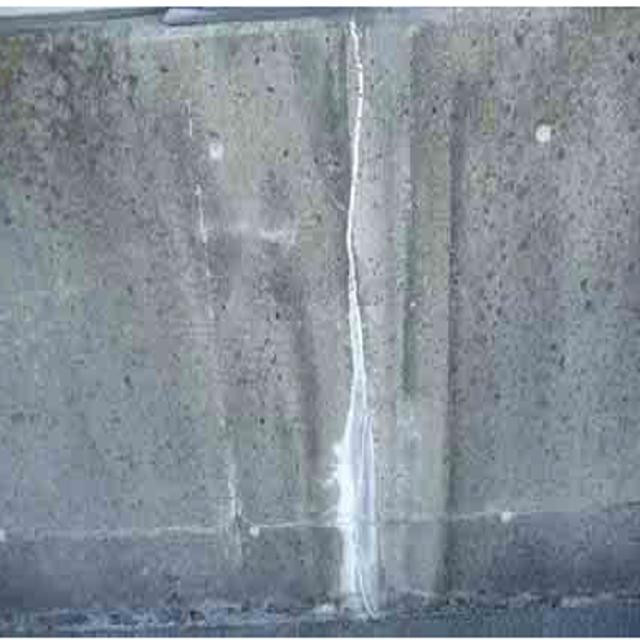freelime: (316, 277, 408, 629)
